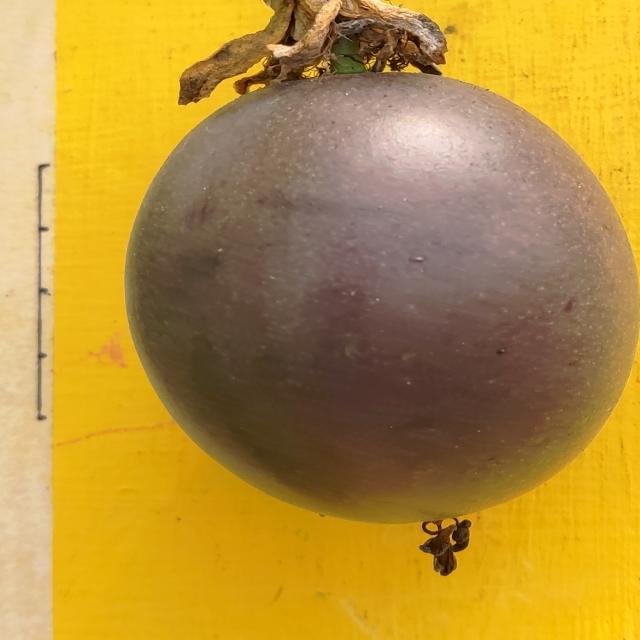Estado-5: (127, 0, 640, 505)
